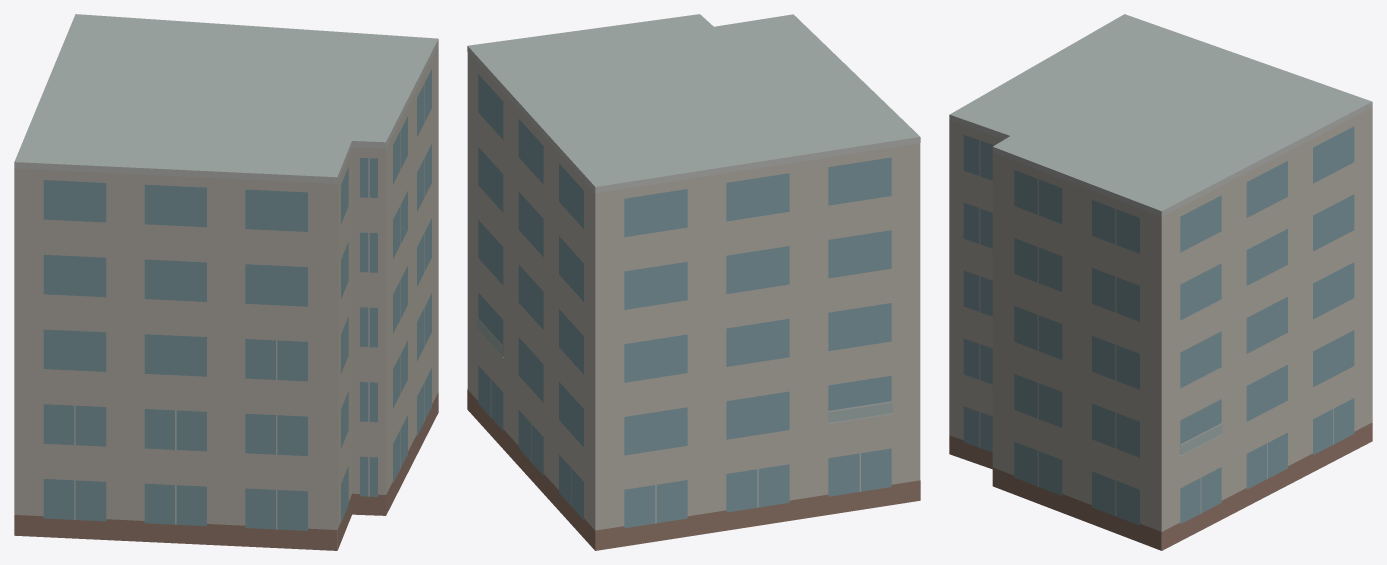
Rendered from survey-upis-32712340.glb.
3 renders of one model, left to right at view 1: azimuth 30°, elevation 25°; view 2: azimuth 150°, elevation 25°; view 3: azimuth 270°, elevation 25°, orthographic. The views are drawn at different scales.
Parts seen in each view (by area): view 1: survey-upis-32712340.tmp; view 2: survey-upis-32712340.tmp; view 3: survey-upis-32712340.tmp.
Boxes of the visible parts, box(x1,y1,x2,y2) form: survey-upis-32712340.tmp: box(14, 14, 438, 550); survey-upis-32712340.tmp: box(467, 14, 920, 550); survey-upis-32712340.tmp: box(949, 14, 1372, 550).
Size of the model in its own units: 17.57 by 14.1 by 15.93.
